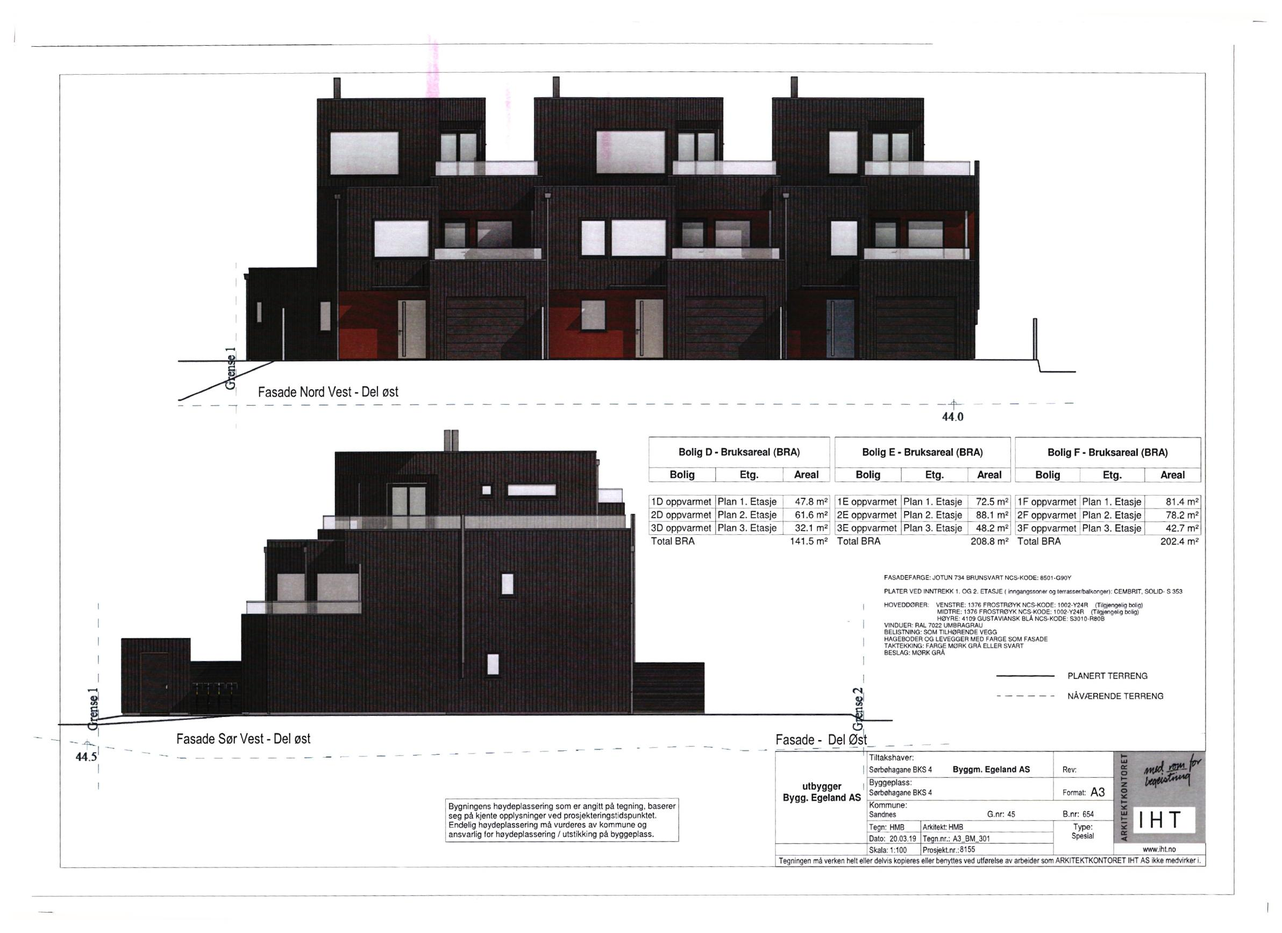fasade: (241, 75, 1038, 406), (119, 428, 707, 762)
